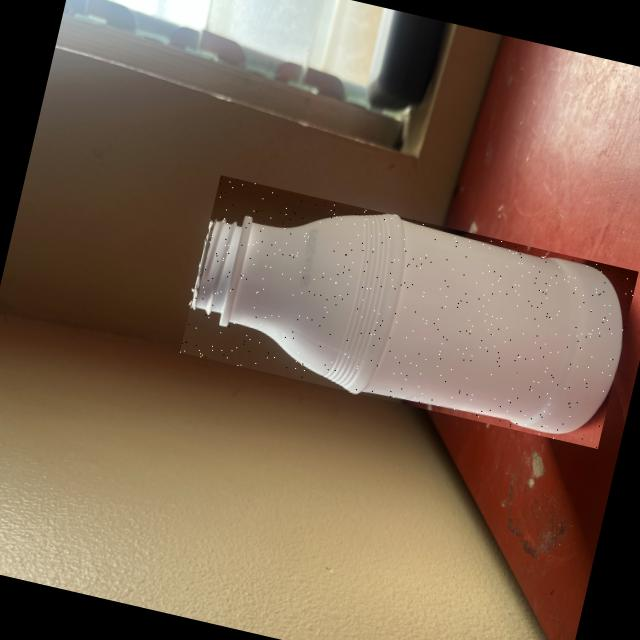HDPE_Bottle: (193, 215, 622, 433)
